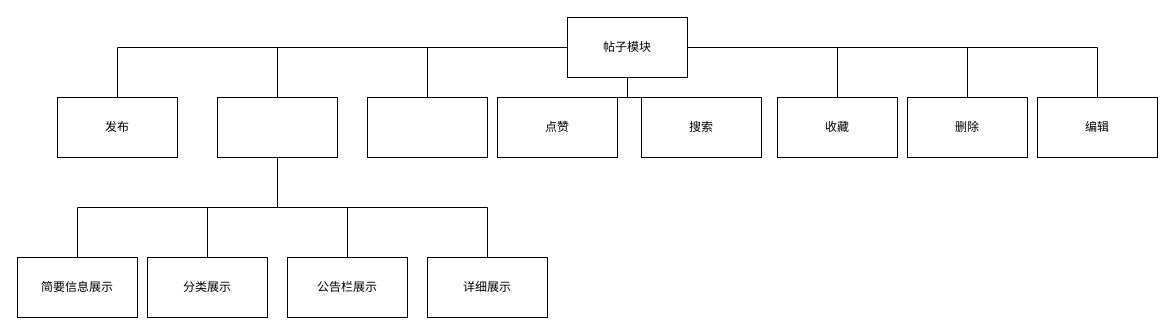
Some shapes in this 1175 by 335 pixel diagram are drawn without their labels. The centre of each missing label's shape, as x and y in pixels:
展示: the point at 277,127
评论: the point at 427,127
